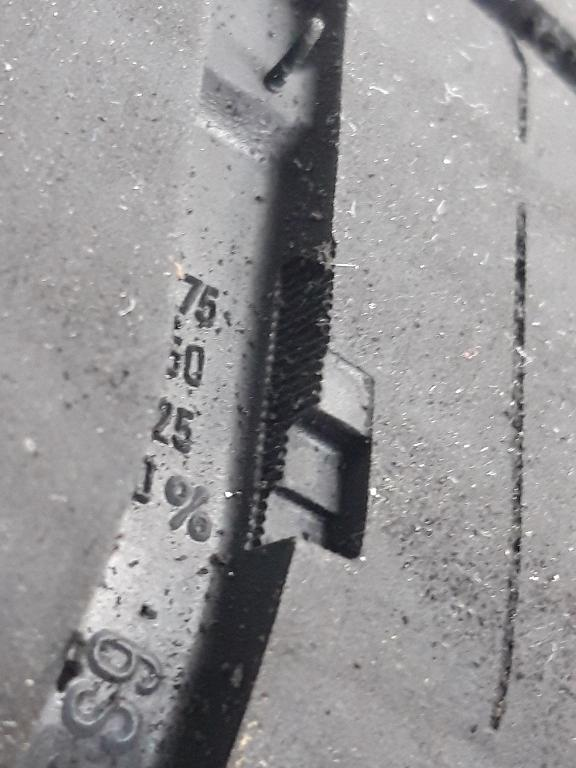temoin:50: (226, 313, 394, 585)
